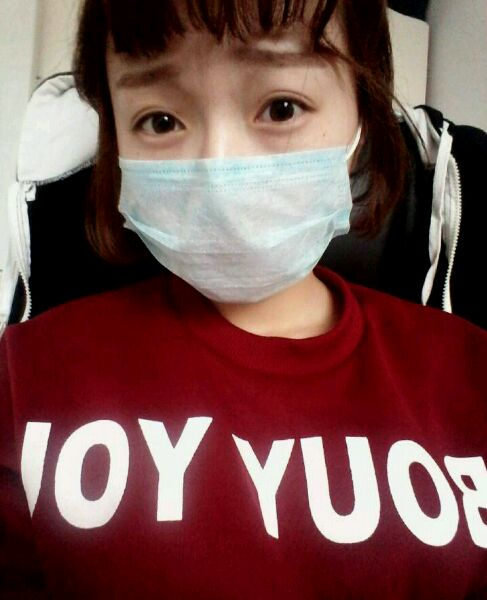face_mask: (114, 1, 351, 309)
